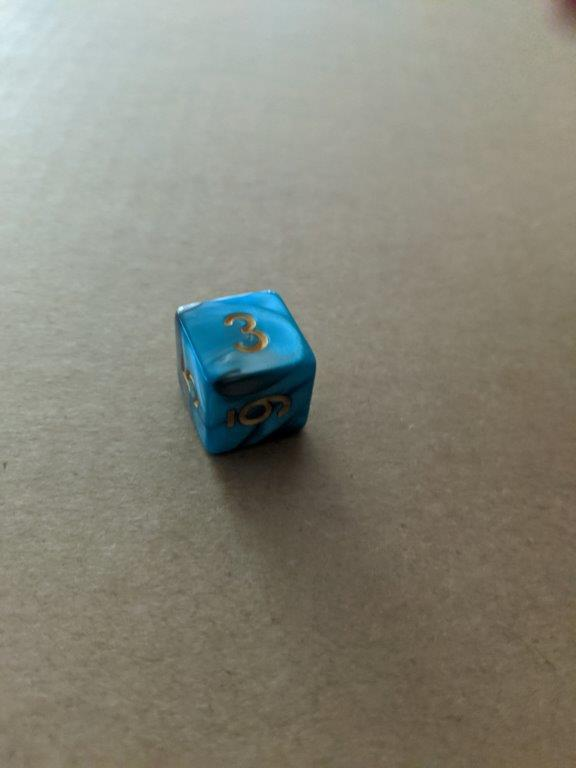d6-3: (174, 287, 319, 458)
